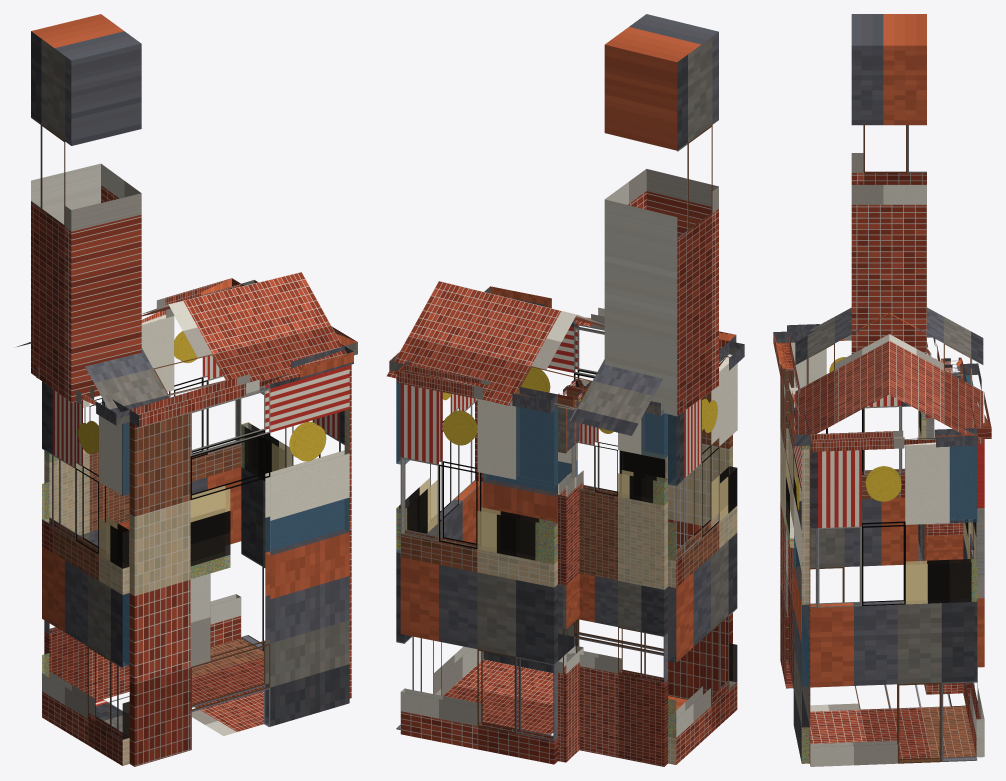
3 renders of one model, left to right at view 1: azimuth 30°, elevation 25°; view 2: azimuth 150°, elevation 25°; view 3: azimuth 270°, elevation 25°, orthographic. The views are drawn at different scales.
Parts seen in each view (by area): view 1: 404256890__wall_6_xb, 404256890__chimney_0_xb, 404256890__wall_0_xb, 404256890_roof_-1_xb, 404256890__wall_1_xb, 404256890__wall_4_xb, 404256890__wall_6_xf, 404256890__wall_5_xb, 404256890__base, 404256890__cornice_6, 404256890__wall_0_xf, 404256890__wall_5_xf (+2 smaller); view 2: 404256890__wall_4_xb, 404256890__chimney_0_xb, 404256890__wall_1_xb, 404256890__wall_0_xb, 404256890_roof_1_xb, 404256890__wall_6_xb, 404256890__wall_5_xb, 404256890__wall_4_xf, 404256890__base, 404256890__wall_3_xb, 404256890__wall_0_xf, 404256890__cornice_4 (+5 smaller); view 3: 404256890__wall_5_xb, 404256890__chimney_0_xb, 404256890__wall_6_xb, 404256890__wall_0_xb, 404256890_roof_-1_xb, 404256890_roof_1_xb, 404256890__base, 404256890__wall_5_xf, 404256890__wall_4_xb, 404256890__cornice_5, 404256890__wall_6_xf, 404256890__cornice_6 (+5 smaller).
Part boxes in pixels (x1=…): 404256890__wall_6_xb: x1=129, y1=365, x2=349, y2=766; 404256890__chimney_0_xb: x1=31, y1=14, x2=141, y2=402; 404256890__wall_0_xb: x1=42, y1=381, x2=129, y2=765; 404256890_roof_-1_xb: x1=85, y1=272, x2=346, y2=413; 404256890__wall_1_xb: x1=44, y1=398, x2=129, y2=701; 404256890__wall_4_xb: x1=102, y1=314, x2=241, y2=646; 404256890__wall_6_xf: x1=191, y1=486, x2=349, y2=578; 404256890__wall_5_xb: x1=241, y1=364, x2=351, y2=698; 404256890__base: x1=95, y1=638, x2=263, y2=735; 404256890__cornice_6: x1=129, y1=346, x2=353, y2=427; 404256890__wall_0_xf: x1=42, y1=422, x2=129, y2=738; 404256890__wall_5_xf: x1=241, y1=423, x2=292, y2=480; 404256890__wall_4_xb: x1=400, y1=384, x2=557, y2=764; 404256890__chimney_0_xb: x1=604, y1=14, x2=718, y2=416; 404256890__wall_1_xb: x1=571, y1=413, x2=667, y2=766; 404256890__wall_0_xb: x1=668, y1=354, x2=737, y2=764; 404256890_roof_1_xb: x1=386, y1=281, x2=662, y2=435; 404256890__wall_6_xb: x1=483, y1=320, x2=732, y2=699; 404256890__wall_5_xb: x1=396, y1=379, x2=483, y2=729; 404256890__wall_4_xf: x1=478, y1=407, x2=557, y2=563; 404256890__base: x1=443, y1=659, x2=687, y2=735; 404256890__wall_3_xb: x1=558, y1=407, x2=574, y2=762; 404256890__wall_0_xf: x1=668, y1=354, x2=736, y2=737; 404256890__cornice_4: x1=397, y1=364, x2=557, y2=413; 404256890__wall_5_xb: x1=809, y1=442, x2=977, y2=766; 404256890__chimney_0_xb: x1=851, y1=14, x2=926, y2=353; 404256890__wall_6_xb: x1=780, y1=343, x2=809, y2=763; 404256890__wall_0_xb: x1=791, y1=342, x2=918, y2=602; 404256890_roof_-1_xb: x1=795, y1=307, x2=889, y2=434; 404256890_roof_1_xb: x1=889, y1=307, x2=983, y2=444; 404256890__base: x1=810, y1=684, x2=976, y2=759; 404256890__wall_5_xf: x1=897, y1=446, x2=976, y2=739; 404256890__wall_4_xb: x1=963, y1=375, x2=984, y2=757; 404256890__cornice_5: x1=809, y1=428, x2=977, y2=451; 404256890__wall_6_xf: x1=786, y1=446, x2=809, y2=763; 404256890__cornice_6: x1=773, y1=331, x2=809, y2=445.
Bounding box in the file's own units: 0.5674 × 1.4 × 0.4349.
1 material, 1 textured.
